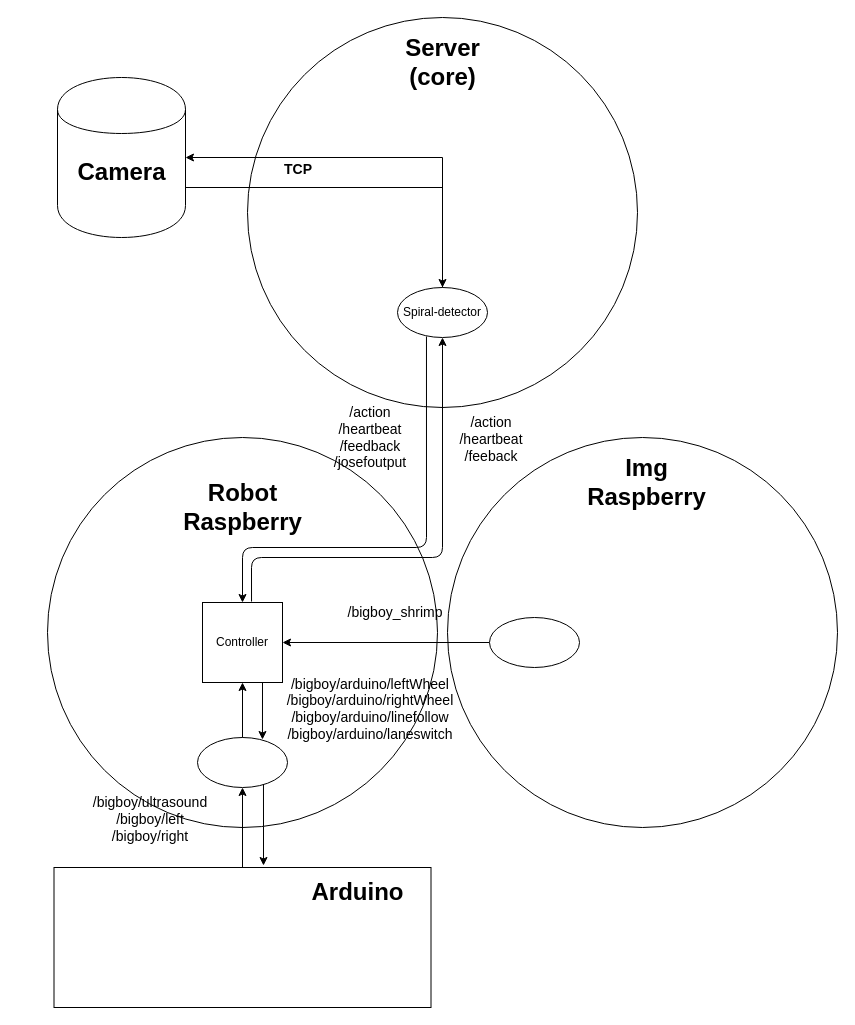
Some shapes in this 855 by 1025 pixel diagram are drawn without their labels. Each missing label, with the centre of its shape:
"serial_node" goes at pixel 242 762.
"Shrimp-tracker" goes at pixel 534 642.
